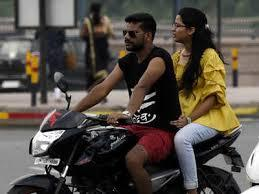no_helmet: (120, 21, 148, 52), (169, 16, 191, 44)
